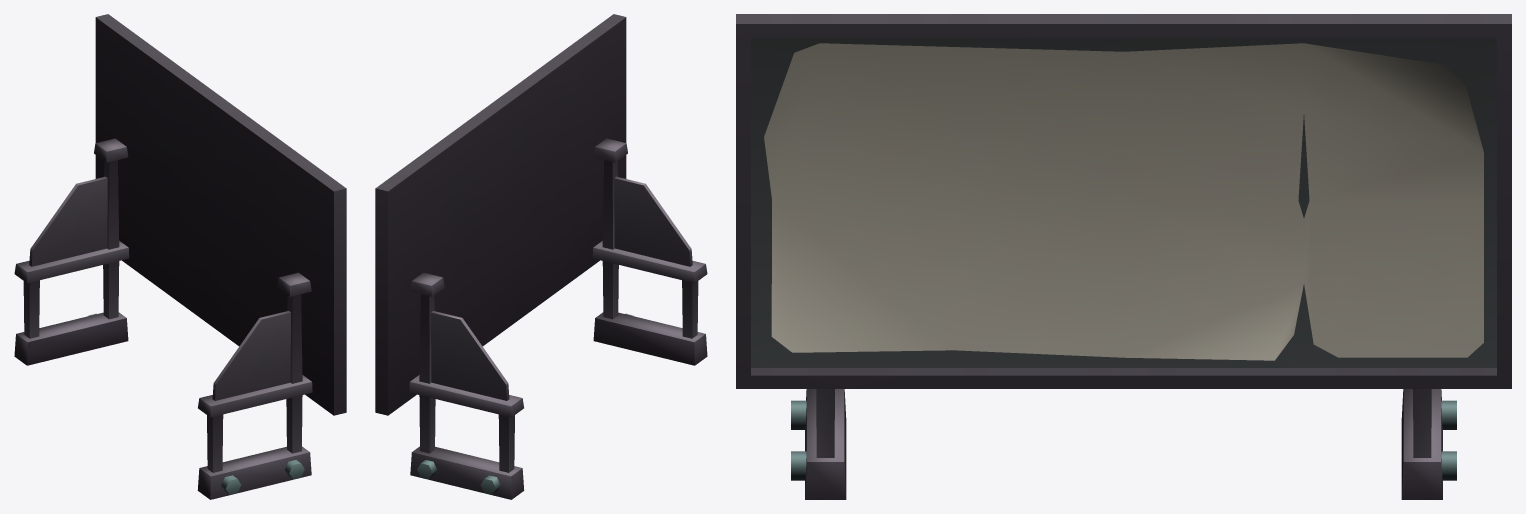
File: Billboard_3A.fbx
3 views of the same model, side by side, from view 1: azimuth 30°, elevation 25°; view 2: azimuth 150°, elevation 25°; view 3: azimuth 270°, elevation 25° (orthographic). The views are drawn at different scales.
Visible parts, largest first — view 1: Billboard_3A; view 2: Billboard_3A; view 3: Billboard_3A_Image, Billboard_3A.
Boxes of the visible parts, x1,y1,x2,y2 form: Billboard_3A: [14, 14, 346, 499]; Billboard_3A: [375, 14, 707, 499]; Billboard_3A_Image: [764, 43, 1483, 360]; Billboard_3A: [736, 14, 1511, 499].
Bounding box in the file's own units: 3.16 × 7.2 × 10.4.
